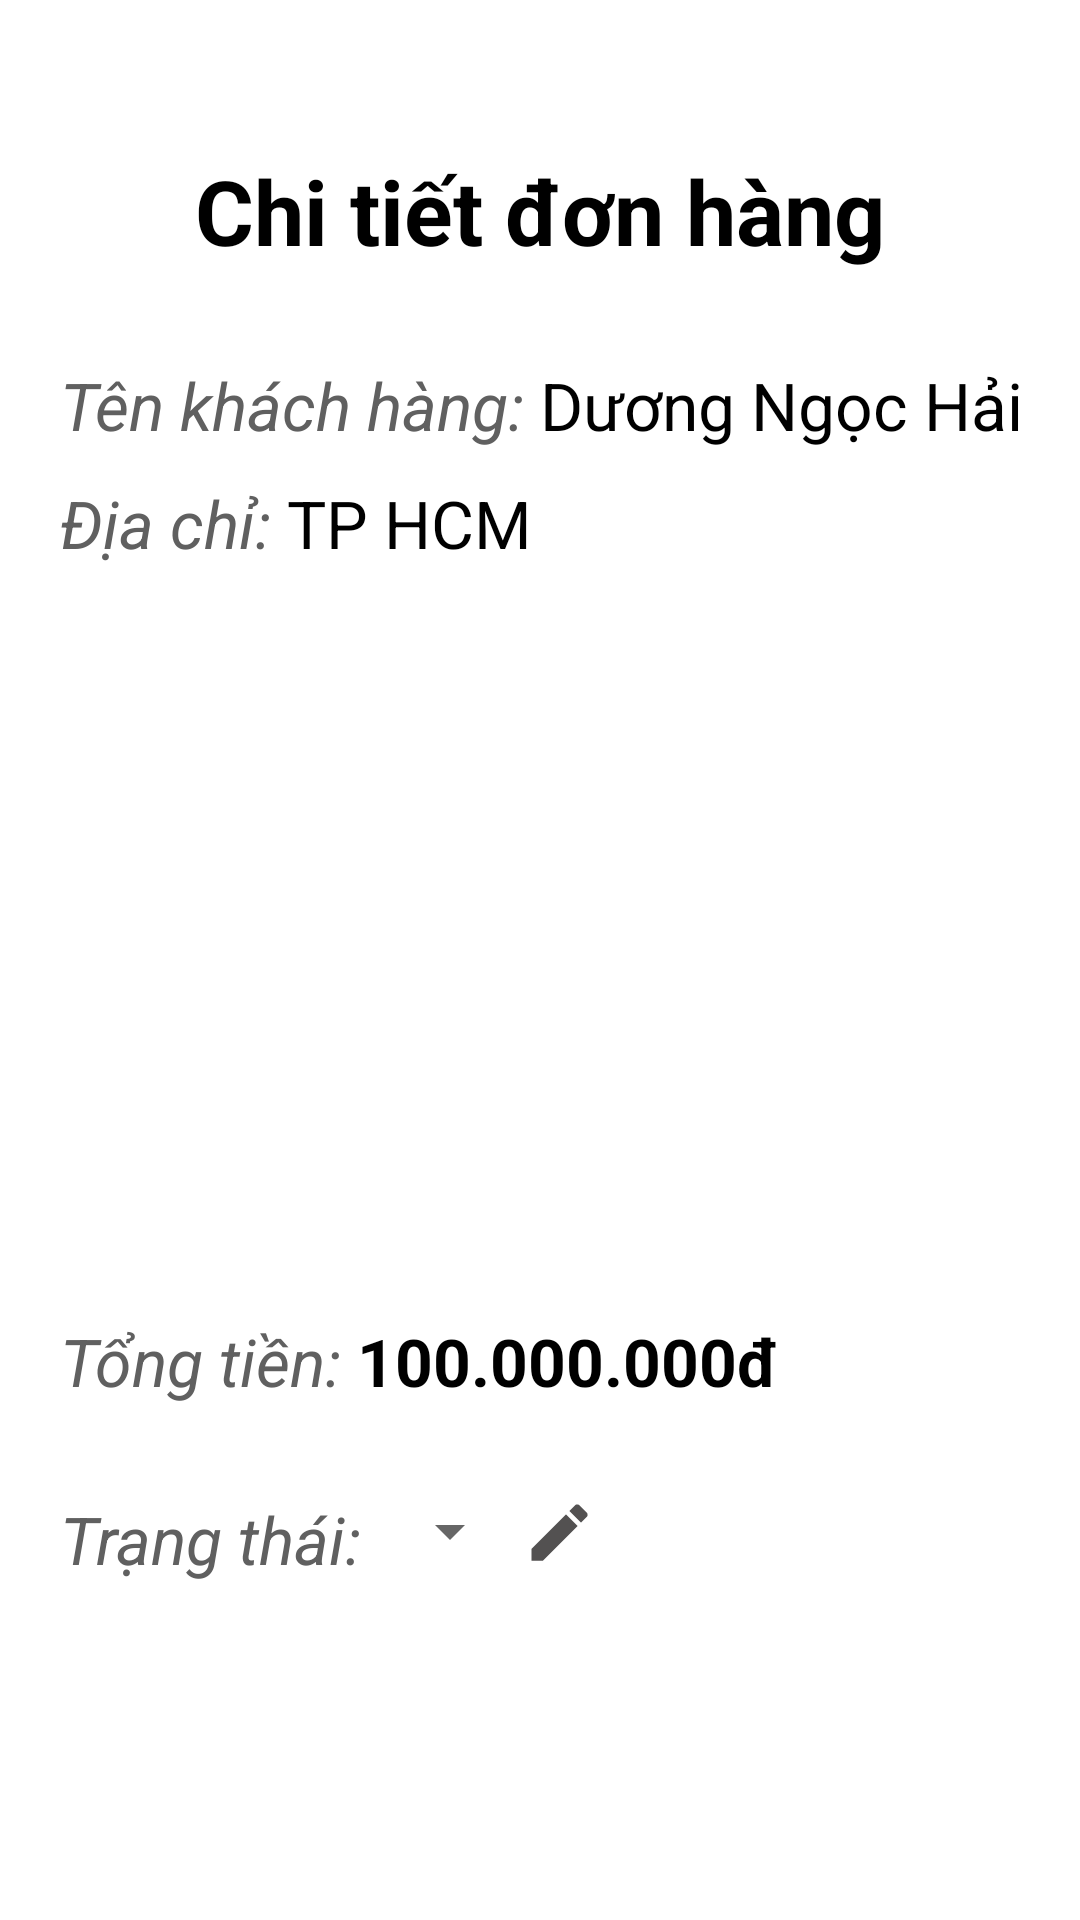

Icon click points for this 1080px x 1920px phone screenshot, format (x,y):
edit: (559,1532)
